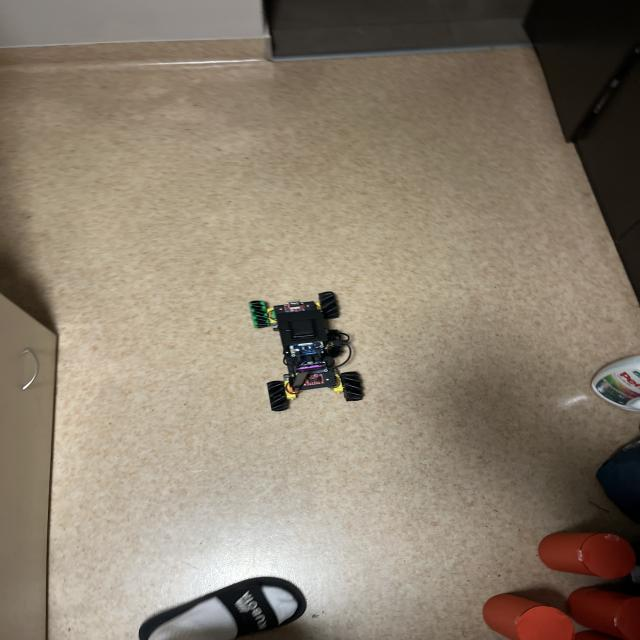robot: (249, 292, 364, 411)
